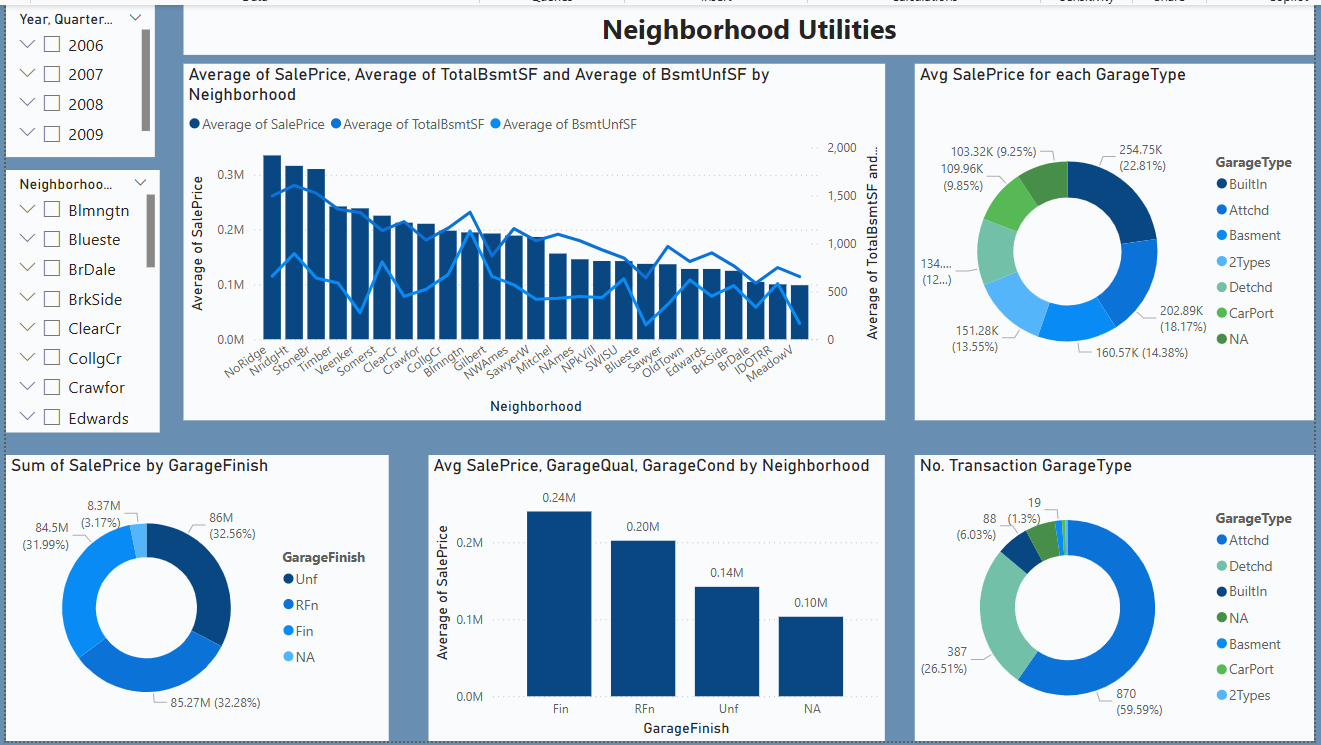

This screenshot's page, from the dashboard's own definition file:
{"tool":"powerbi","page":{"name":"BI 3","canvas":[1280,720],"ordinal":2},"visuals":[{"type":"slicer","fields":{"Values":["Dim_Date.Year","Dim_Date.Quarter","Dim_Date.Month"]},"box":[0,0,145.5,149.2],"z":0},{"type":"clusteredColumnChart","title":"Avg SalePrice, GarageQual, GarageCond by Neighborhood","fields":{"Category":["Dim_Garage.GarageFinish"],"Y":["Avg(Fact_Sale.SalePrice)"]},"box":[413.3,440.2,446.3,280],"z":1000},{"type":"lineClusteredColumnComboChart","fields":{"Y":["Avg(Fact_Sale.SalePrice)"],"Y2":["Avg(Fact_Basement.TotalBsmtSF)","Avg(Fact_Basement.BsmtUnfSF)"],"Category":["Dim_Location.Neighborhood"]},"box":[173.6,57.5,686,348.5],"z":2000},{"type":"donutChart","fields":{"Category":["Dim_Garage.GarageFinish"],"Y":["Sum(Fact_Sale.SalePrice)"]},"box":[0,440.2,374.2,280],"z":3000},{"type":"textbox","box":[173.6,0,1106.7,48.9],"z":4000},{"type":"donutChart","title":"No. Transaction GarageType","fields":{"Category":["Dim_Garage.GarageType"],"Y":["CountNonNull(Dim_Garage.GarageType)"]},"box":[889,440.2,391.3,280],"z":5000},{"type":"donutChart","title":"Avg SalePrice for each GarageType","fields":{"Category":["Dim_Garage.GarageType"],"Y":["Avg(Fact_Sale.SalePrice)"]},"box":[889,57.5,391.3,348.5],"z":6000},{"type":"slicer","fields":{"Values":["Dim_Location.Neighborhood","Dim_Location.Condition1","Dim_Location.Condition2"]},"box":[0,161.4,150.4,256.8],"z":7000}]}

Visuals, with their boxes in screenshot pixels (x1, y1, x2, y2):
slicer - Dim_Date.Year x Dim_Date.Quarter: (x1=3, y1=7, x2=152, y2=159)
"Avg SalePrice, GarageQual, GarageCond by Neighborhood" clusteredColumnChart: (x1=424, y1=455, x2=878, y2=740)
lineClusteredColumnComboChart - Avg(Fact_Sale.SalePrice) x Avg(Fact_Basement.TotalBsmtSF): (x1=180, y1=65, x2=878, y2=420)
donutChart - Dim_Garage.GarageFinish x Sum(Fact_Sale.SalePrice): (x1=3, y1=455, x2=384, y2=740)
textbox: (x1=180, y1=7, x2=1306, y2=57)
"No. Transaction GarageType" donutChart: (x1=908, y1=455, x2=1306, y2=740)
"Avg SalePrice for each GarageType" donutChart: (x1=908, y1=65, x2=1306, y2=420)
slicer - Dim_Location.Neighborhood x Dim_Location.Condition1: (x1=3, y1=171, x2=157, y2=433)
